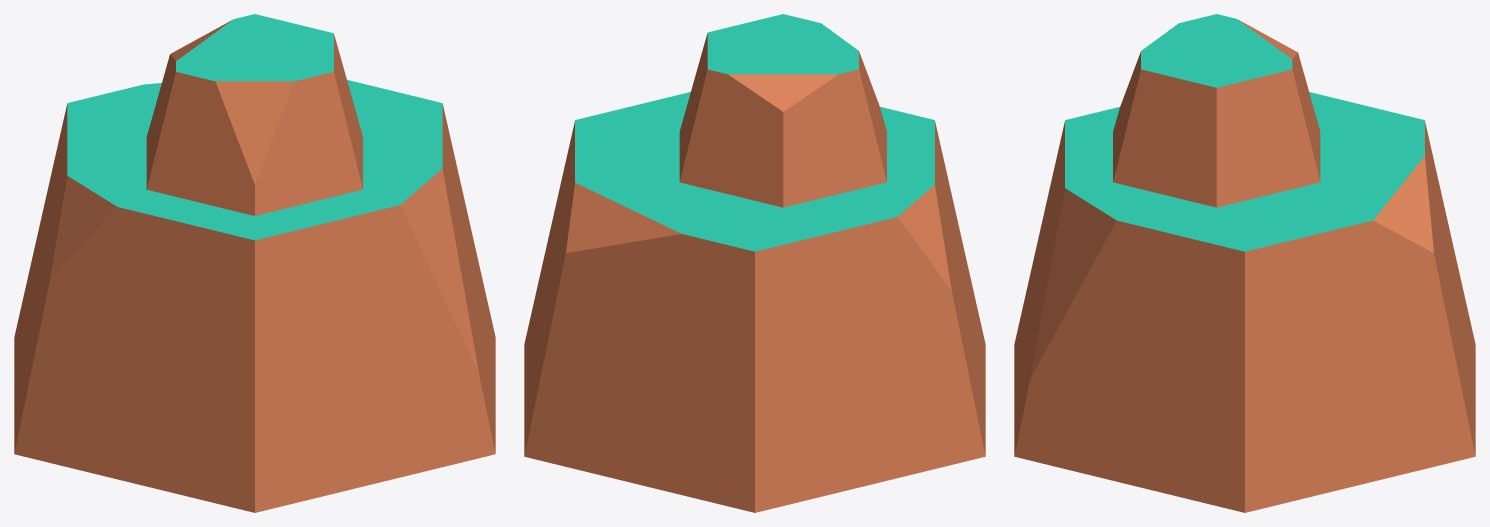
Rendered from rock_smallE.dae.
3 renders of one model, left to right at view 1: azimuth 30°, elevation 25°; view 2: azimuth 150°, elevation 25°; view 3: azimuth 270°, elevation 25°, orthographic. The views are drawn at different scales.
Visible parts, largest first — view 1: rock_smallE; view 2: rock_smallE; view 3: rock_smallE.
Boxes of the visible parts, <box> form: rock_smallE: <box>14,14,495,512</box>; rock_smallE: <box>524,14,985,512</box>; rock_smallE: <box>1014,14,1475,512</box>.
Size of the model in its own units: 0.3608 by 0.2562 by 0.3125.
